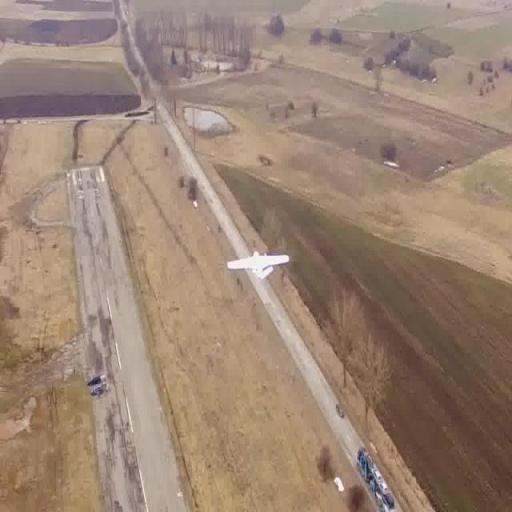uav: (226, 240, 292, 296)
